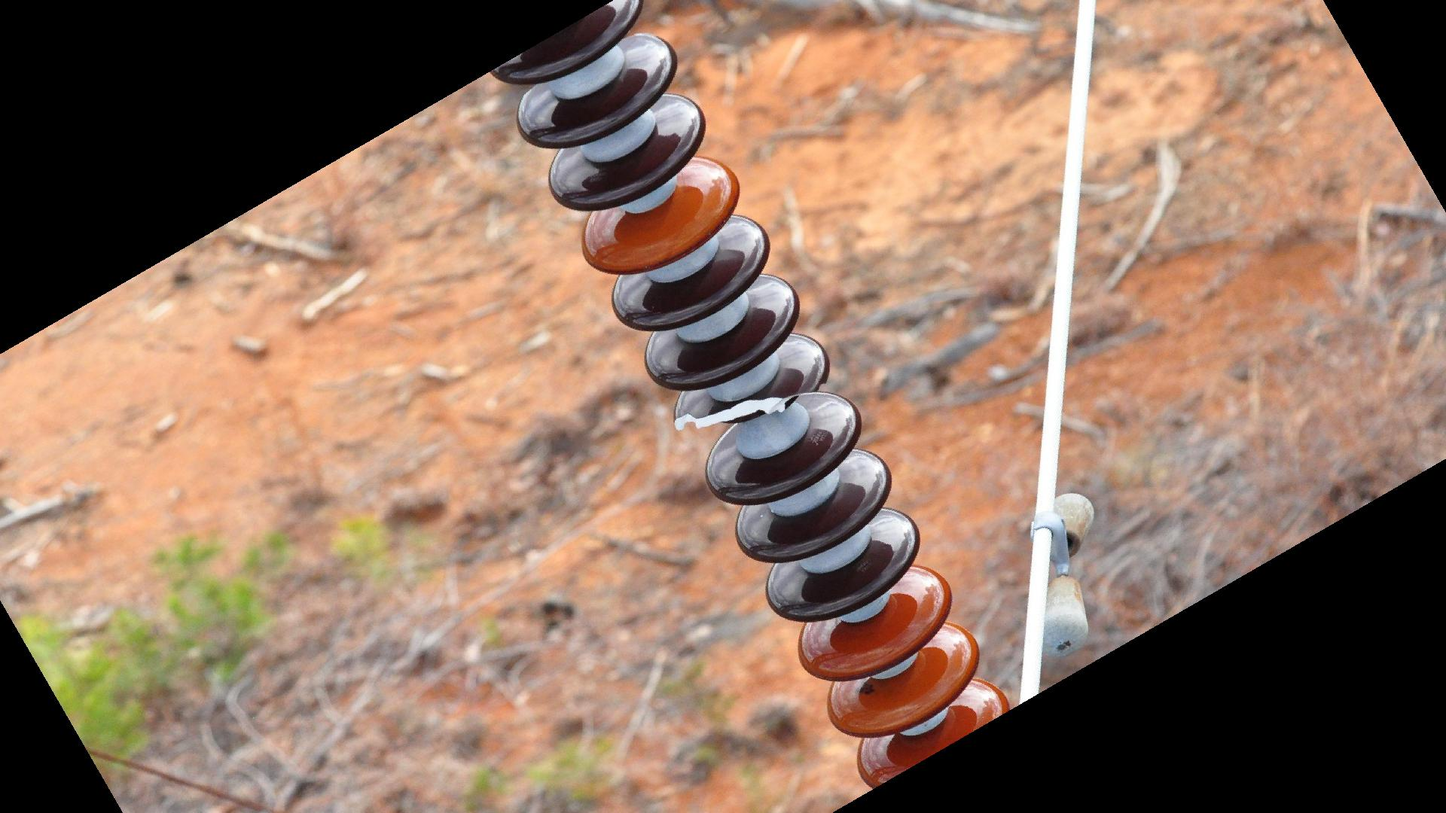insulator: (481, 1, 1018, 800)
insulator_breakage: (670, 373, 828, 435)
